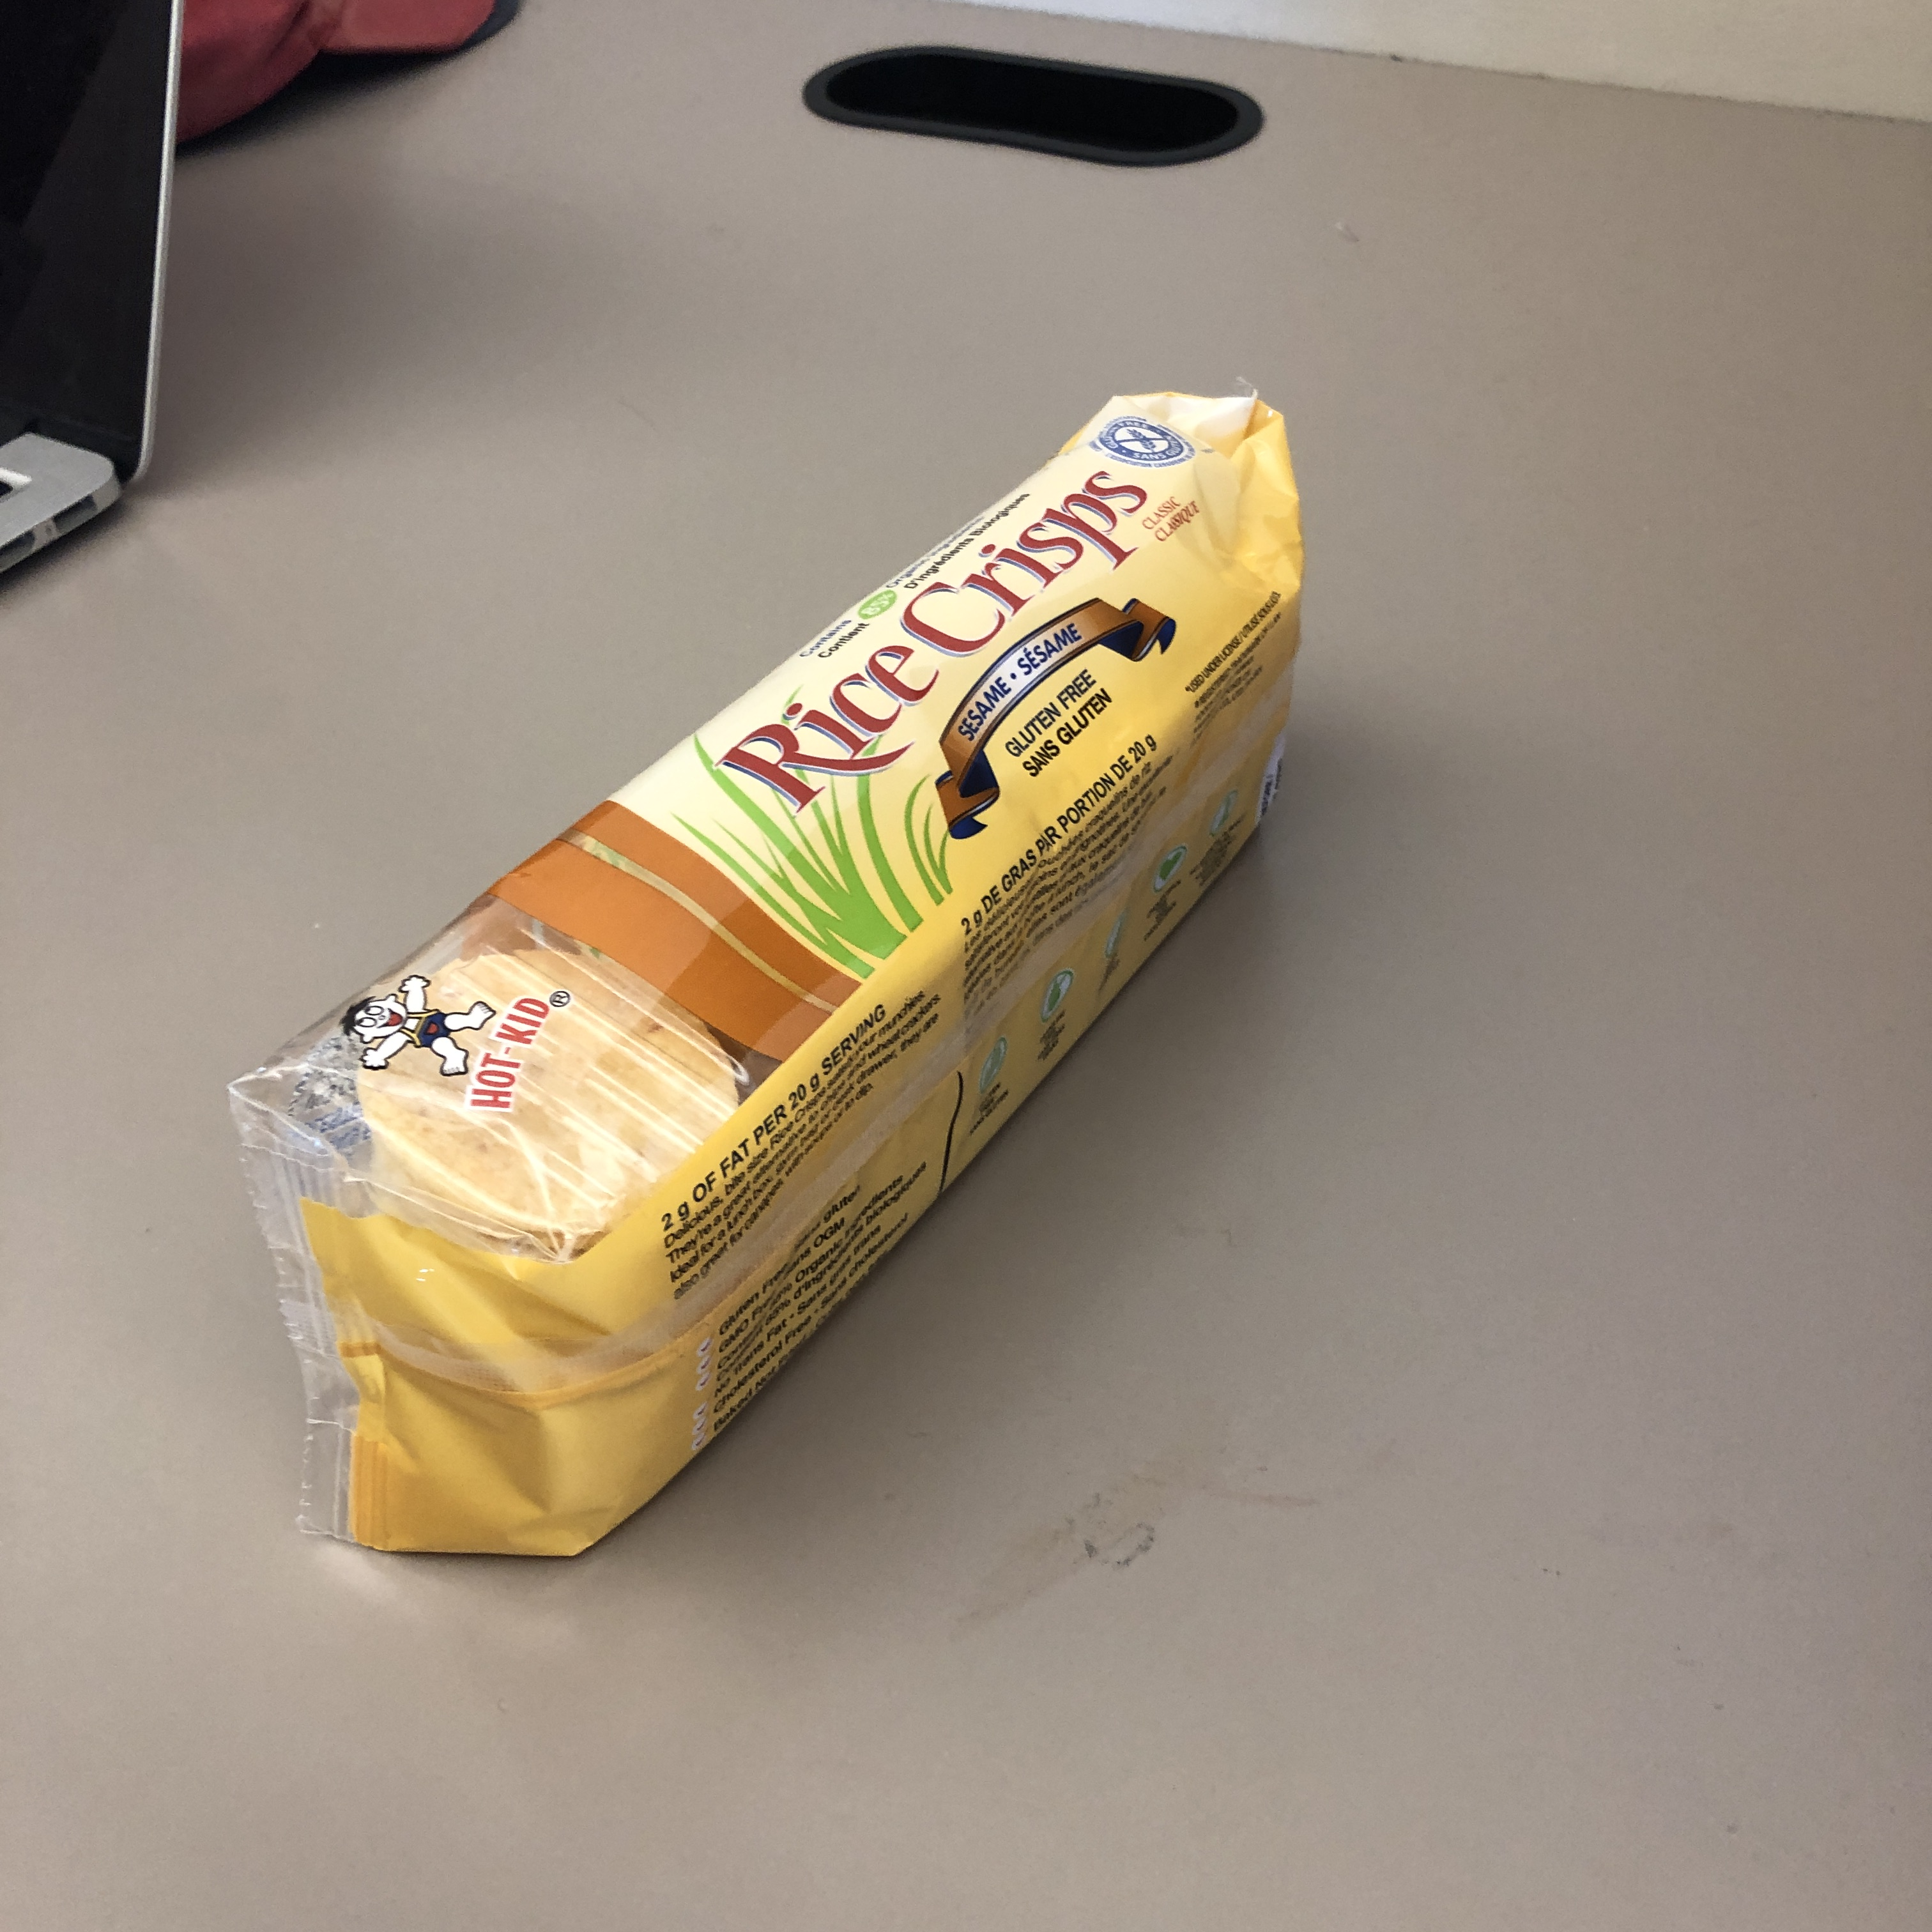hot_kid_rice_crisps_sesame: (382, 647, 1499, 1544)
